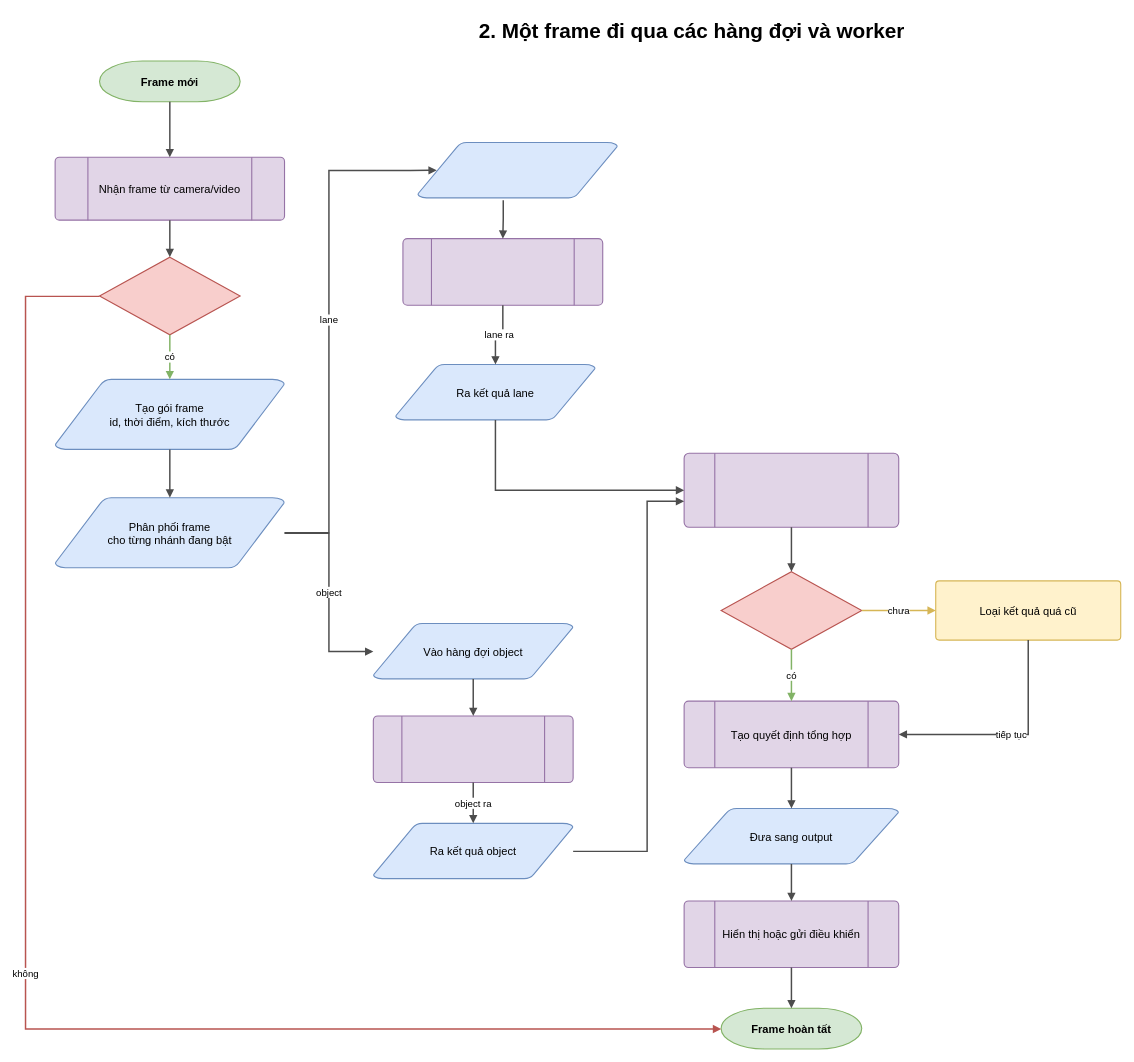
Some shapes in this 1134 by 1062 pixel diagram are drawn without their labels. Here are the shapes that lost their labels. From the top down, the centre of each, then its label:
At point (517, 170): "Vào hàng đợi lane".
At point (502, 271): "Xử lý làn đường".
At point (169, 295): "Frame dùng được?".
At point (791, 489): "Đồng bộ kết quả theo frame".
At point (791, 610): "Đủ dữ liệu cần thiết?".
At point (472, 749): "Xử lý vật thể".
